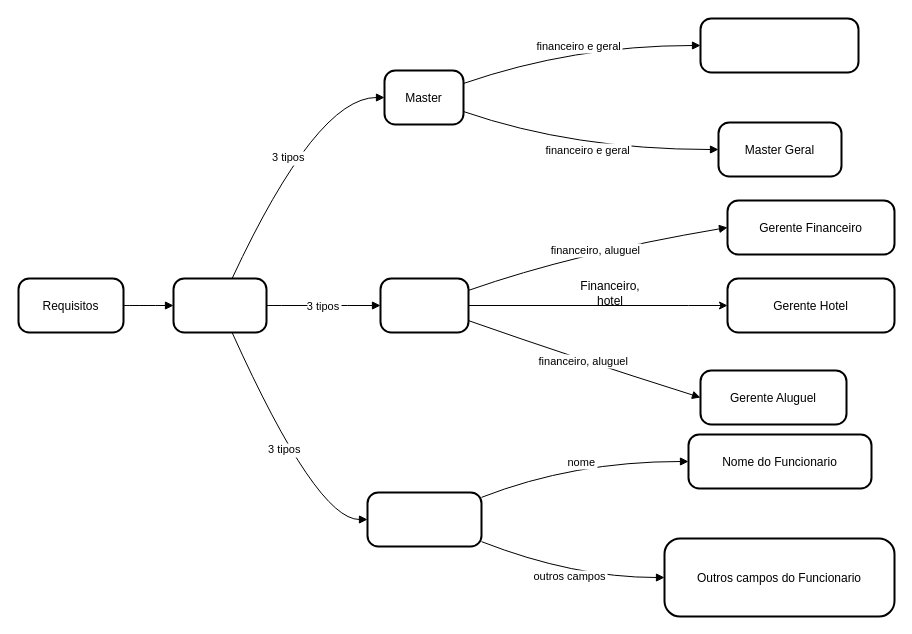
This 912x634 diagram has some shape labels left out. Each missing label, with the centre of its shape:
"Funcionario" belongs at [424,519].
"Gerente" belongs at [424,305].
"Master Financeiro" belongs at [779,45].
"Usuarios" belongs at [219,305].
